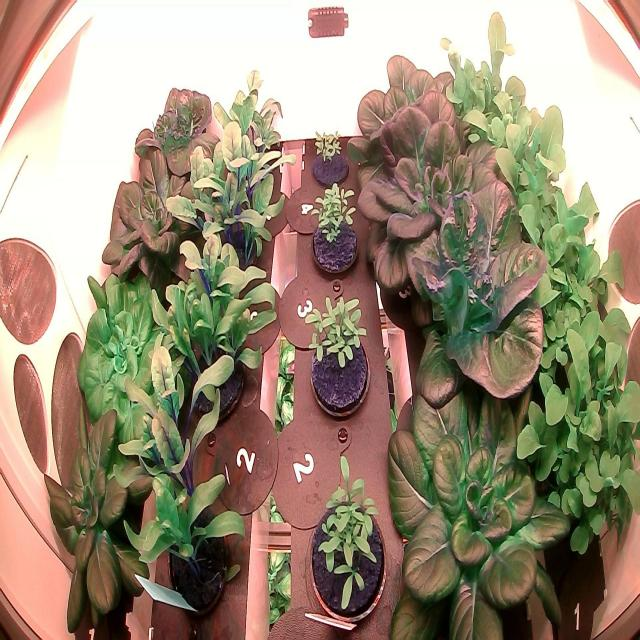Ready: (375, 179, 553, 421), (347, 97, 529, 315), (352, 25, 488, 176)
germination: (303, 115, 357, 198)
young: (374, 340, 576, 640), (36, 403, 162, 636), (72, 261, 195, 466), (94, 134, 229, 289), (124, 70, 226, 192)
